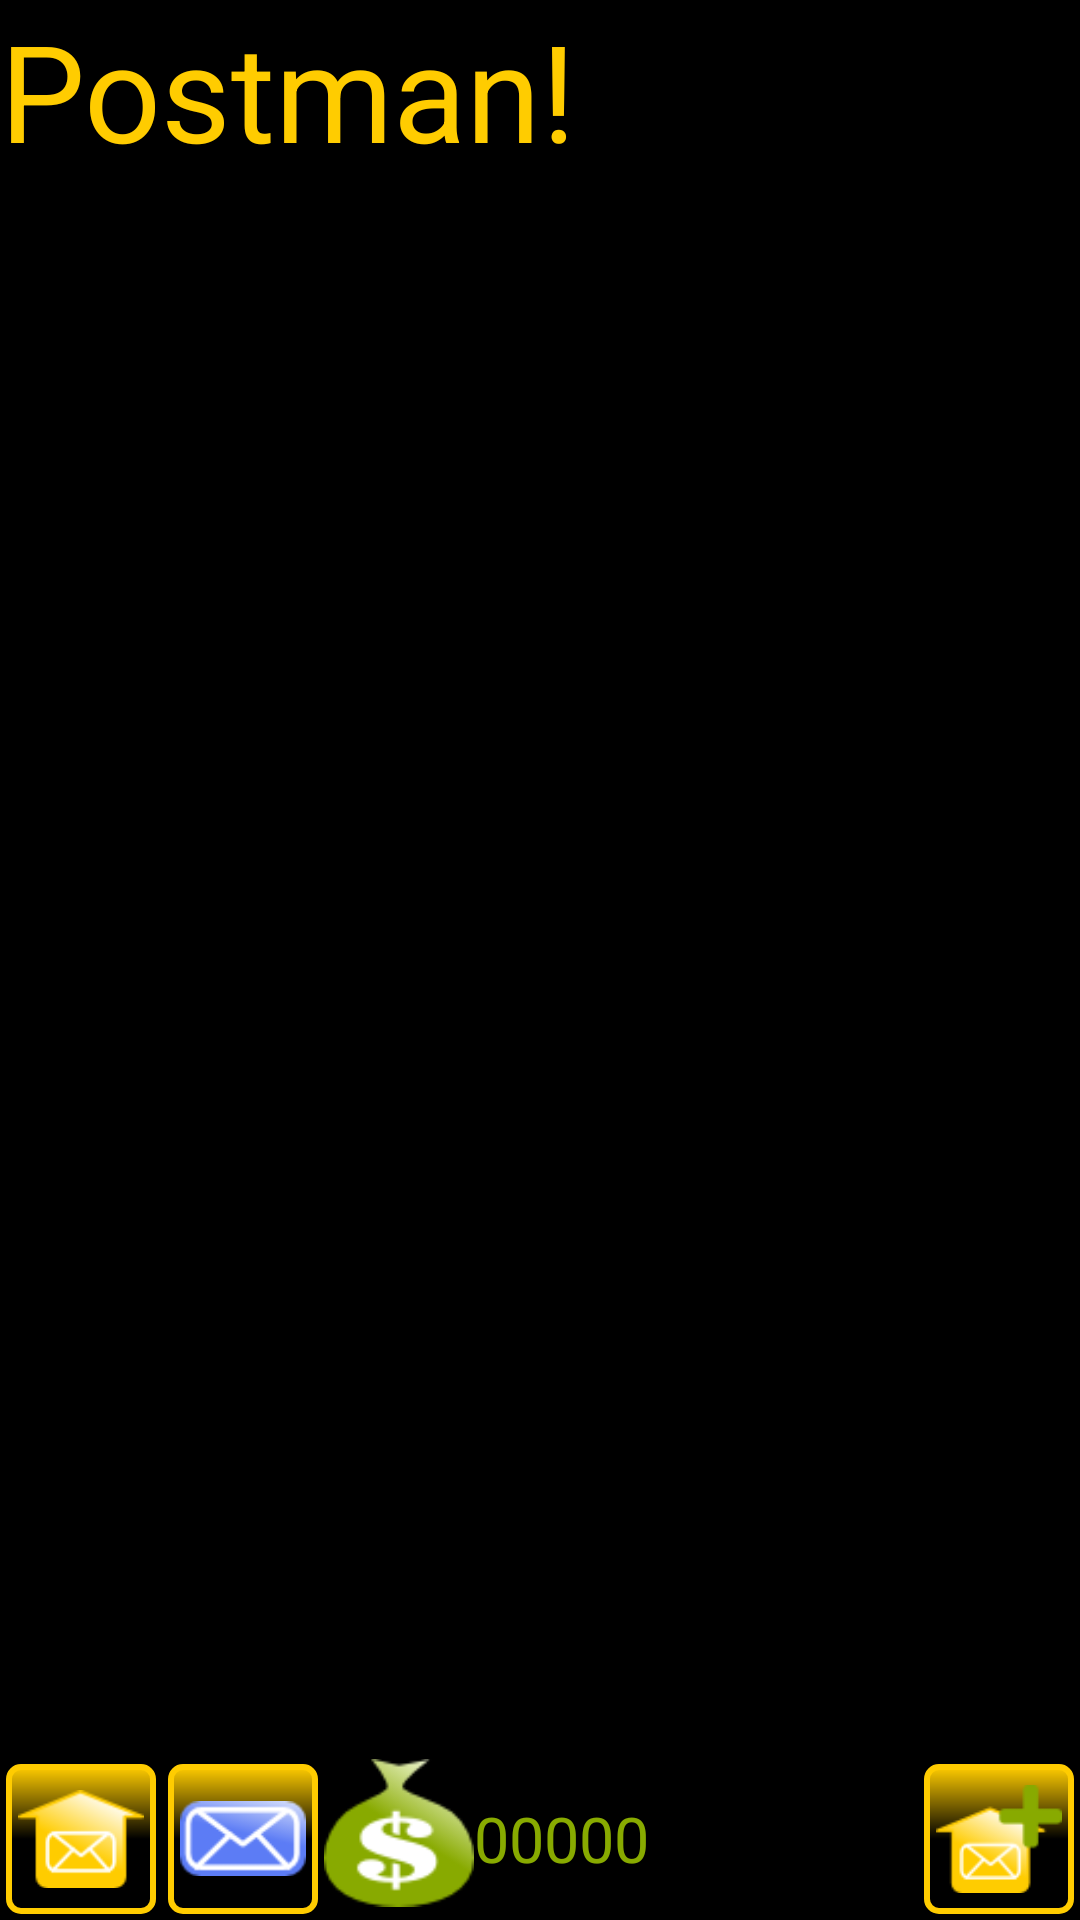

Locate icon controls on the screen. Image size 1080px×1920px, boxes as [x1=x1, y1=y1, x2=x2, y2=y2].
cash: [x1=324, y1=1759, x2=474, y2=1907]
letter: [x1=168, y1=1764, x2=318, y2=1914]
poststation: [x1=6, y1=1764, x2=156, y2=1914], [x1=924, y1=1764, x2=1074, y2=1914]
